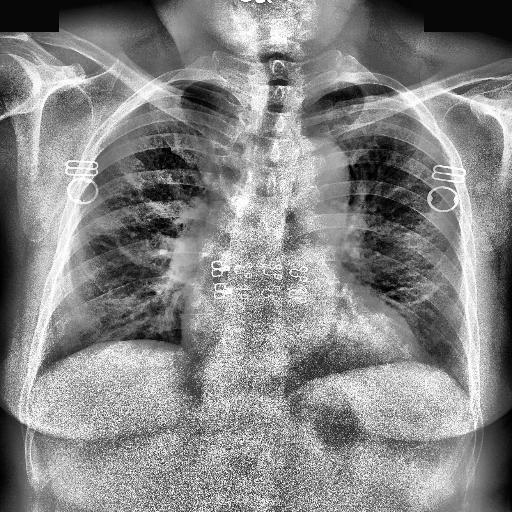0- Aortic enlargement: (272, 136, 352, 214), (278, 142, 352, 224), (280, 132, 350, 198)
3- Cardiomegaly: (180, 304, 422, 382), (180, 295, 422, 367), (180, 312, 420, 373)
